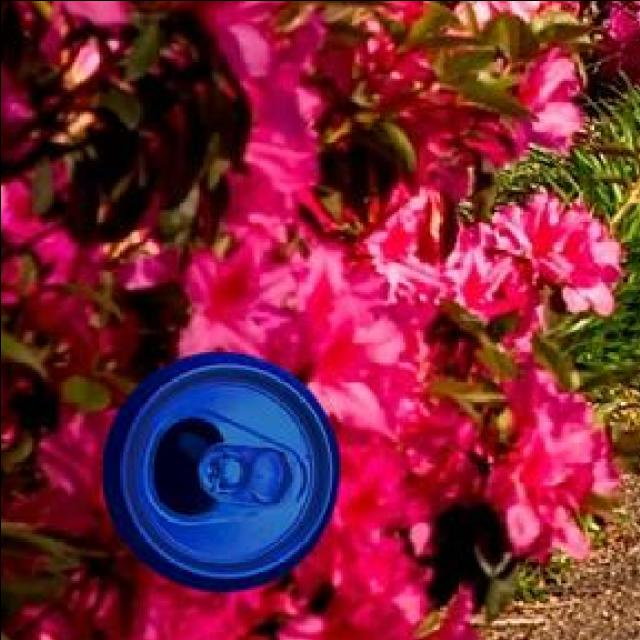logam: (106, 348, 341, 588)
